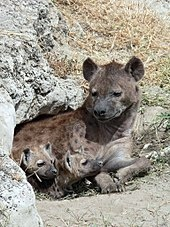hyna: (9, 52, 154, 199), (55, 143, 103, 191), (15, 142, 58, 184)
